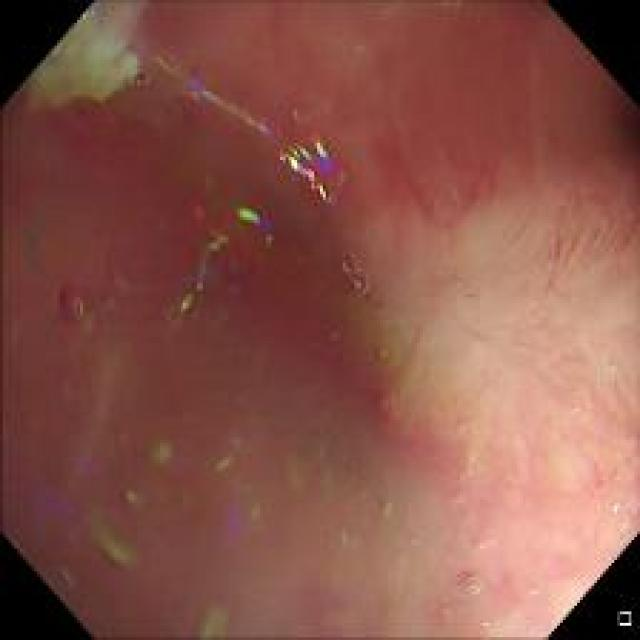bubbles: (332, 246, 375, 314), (444, 558, 492, 602), (56, 279, 88, 321), (608, 494, 631, 534), (128, 69, 150, 94), (335, 528, 356, 550), (379, 394, 398, 418), (376, 495, 395, 516), (564, 398, 581, 414), (375, 344, 389, 362), (605, 358, 618, 372)
color misalignment: (156, 56, 348, 208), (176, 192, 270, 326), (51, 268, 100, 336), (86, 511, 136, 572), (142, 432, 180, 482), (211, 425, 246, 469), (218, 502, 240, 558), (204, 595, 230, 638)
specularity: (612, 502, 621, 514)
